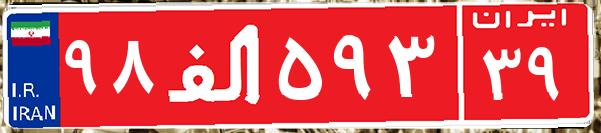3: (385, 28, 445, 110), (475, 38, 525, 113)
5: (273, 28, 330, 110)
8: (110, 28, 158, 105)
9: (330, 28, 385, 110), (57, 26, 110, 107), (525, 38, 570, 115)
الف: (158, 15, 273, 115)
